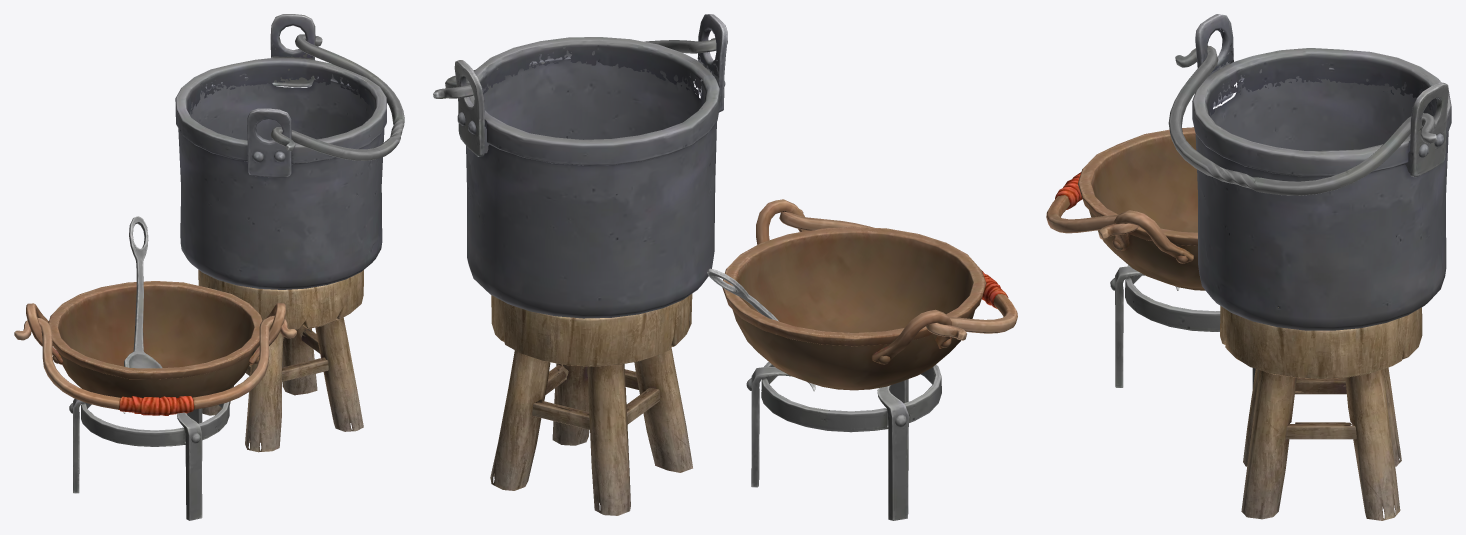
3 views of the same model, side by side, from view 1: azimuth 30°, elevation 25°; view 2: azimuth 150°, elevation 25°; view 3: azimuth 270°, elevation 25° (orthographic). The views are drawn at different scales.
Parts seen in each view (by area): view 1: SM_Dec_Kitchen_Pot_Set_01_LOD0; view 2: SM_Dec_Kitchen_Pot_Set_01_LOD0; view 3: SM_Dec_Kitchen_Pot_Set_01_LOD0.
Part boxes in pixels (x1=…): SM_Dec_Kitchen_Pot_Set_01_LOD0: x1=14, y1=14, x2=404, y2=520; SM_Dec_Kitchen_Pot_Set_01_LOD0: x1=433, y1=14, x2=1017, y2=520; SM_Dec_Kitchen_Pot_Set_01_LOD0: x1=1046, y1=14, x2=1451, y2=520.
Size of the model in its own units: 1.1 by 0.9383 by 0.7937.
3 materials, 3 textured.
